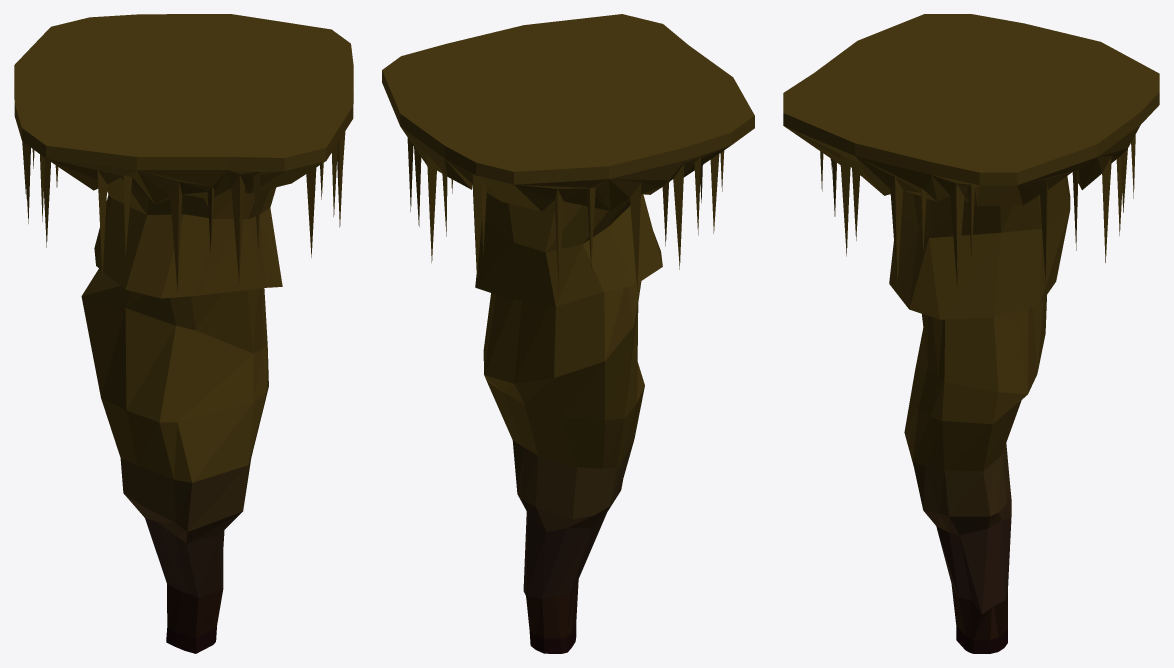
The model's file is model_loc_3257_8.obj.
3 renders of one model, left to right at view 1: azimuth 30°, elevation 25°; view 2: azimuth 150°, elevation 25°; view 3: azimuth 270°, elevation 25°, orthographic. The views are drawn at different scales.
Visible parts, largest first — view 1: 686; view 2: 686; view 3: 686.
Boxes of the visible parts, bbox=[...] form: 686: bbox=[14, 14, 353, 653]; 686: bbox=[382, 14, 754, 653]; 686: bbox=[783, 14, 1159, 653].
Size of the model in its own units: 319 by 513 by 320.
